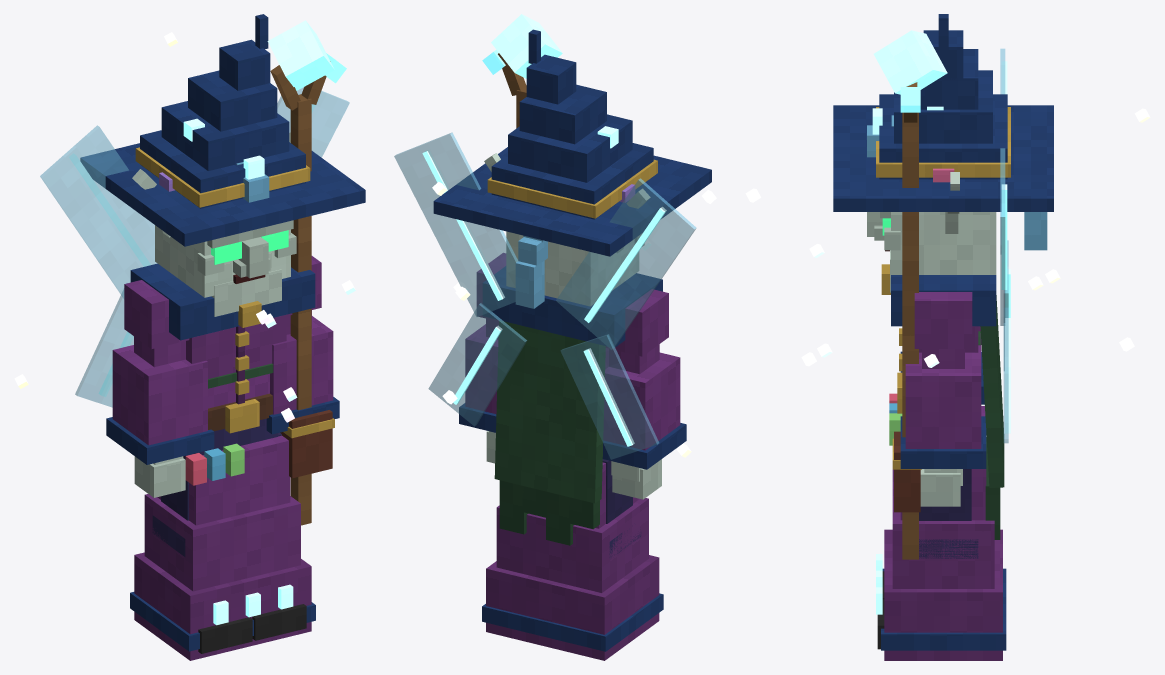
The model's file is fairy_mage.glb.
3 renders of one model, left to right at view 1: azimuth 30°, elevation 25°; view 2: azimuth 150°, elevation 25°; view 3: azimuth 270°, elevation 25°, orthographic. The views are drawn at different scales.
Parts seen in each view (by area): view 1: Head, Torso, Root, ArmR, HandL, ArmL, LegR, LegL; view 2: Torso, Head, Root, ArmR, ArmL, HandL, LegR; view 3: Head, Root, ArmL, Torso, HandL, LegL.
Boxes of the visible parts, x1,y1,x2,y2 form: Head: [80, 14, 365, 316]; Torso: [14, 32, 355, 485]; Root: [130, 435, 315, 660]; ArmR: [106, 280, 214, 497]; HandL: [267, 20, 346, 525]; ArmL: [266, 256, 339, 434]; LegR: [152, 453, 252, 653]; LegL: [252, 432, 306, 640]; Torso: [394, 132, 716, 545]; Head: [433, 29, 711, 308]; Root: [482, 462, 663, 660]; ArmR: [602, 289, 686, 499]; ArmL: [459, 253, 506, 463]; HandL: [482, 14, 562, 128]; LegR: [602, 459, 641, 557]; Head: [833, 14, 1053, 292]; Root: [876, 406, 1006, 660]; ArmL: [900, 292, 986, 506]; Torso: [745, 48, 1150, 539]; HandL: [873, 30, 947, 559]; LegL: [877, 469, 978, 649].
Size of the model in its own units: 0.7287 by 1.32 by 0.7622.
48 materials, 48 textured.
